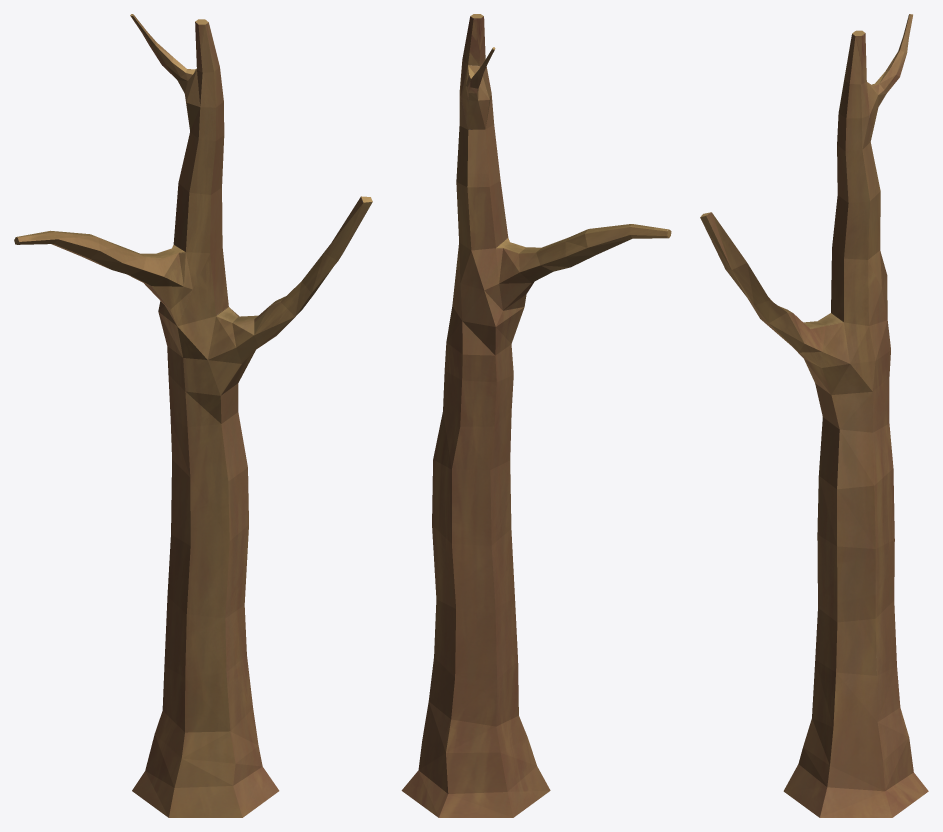
The model's file is Pohon_1.obj.
The picture shows the model from 3 angles, left to right: view 1: azimuth 30°, elevation 25°; view 2: azimuth 150°, elevation 25°; view 3: azimuth 270°, elevation 25°; orthographic projection. The views are drawn at different scales.
Visible parts, largest first — view 1: Pohon_1; view 2: Pohon_1; view 3: Pohon_1.
Part boxes in pixels (box(x1,y1,x2,y2)): Pohon_1: box(14, 14, 372, 817); Pohon_1: box(401, 14, 671, 817); Pohon_1: box(700, 14, 928, 817).
Bounding box in the file's own units: 23.6 × 61.96 × 16.97.
Materials: 1 (1 with a texture image).
